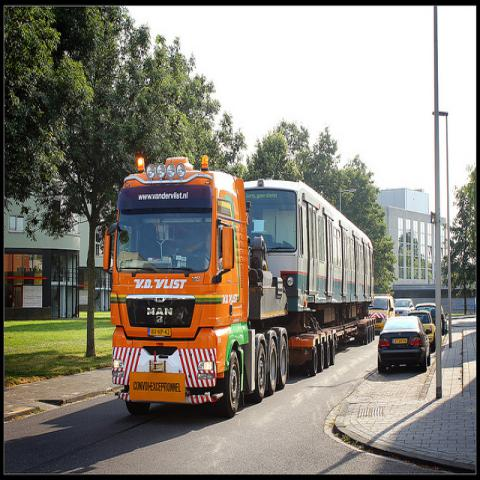car: (376, 315, 432, 374), (416, 302, 448, 334), (370, 295, 396, 331), (409, 314, 434, 344), (393, 298, 416, 316)
truck: (102, 151, 388, 418)
